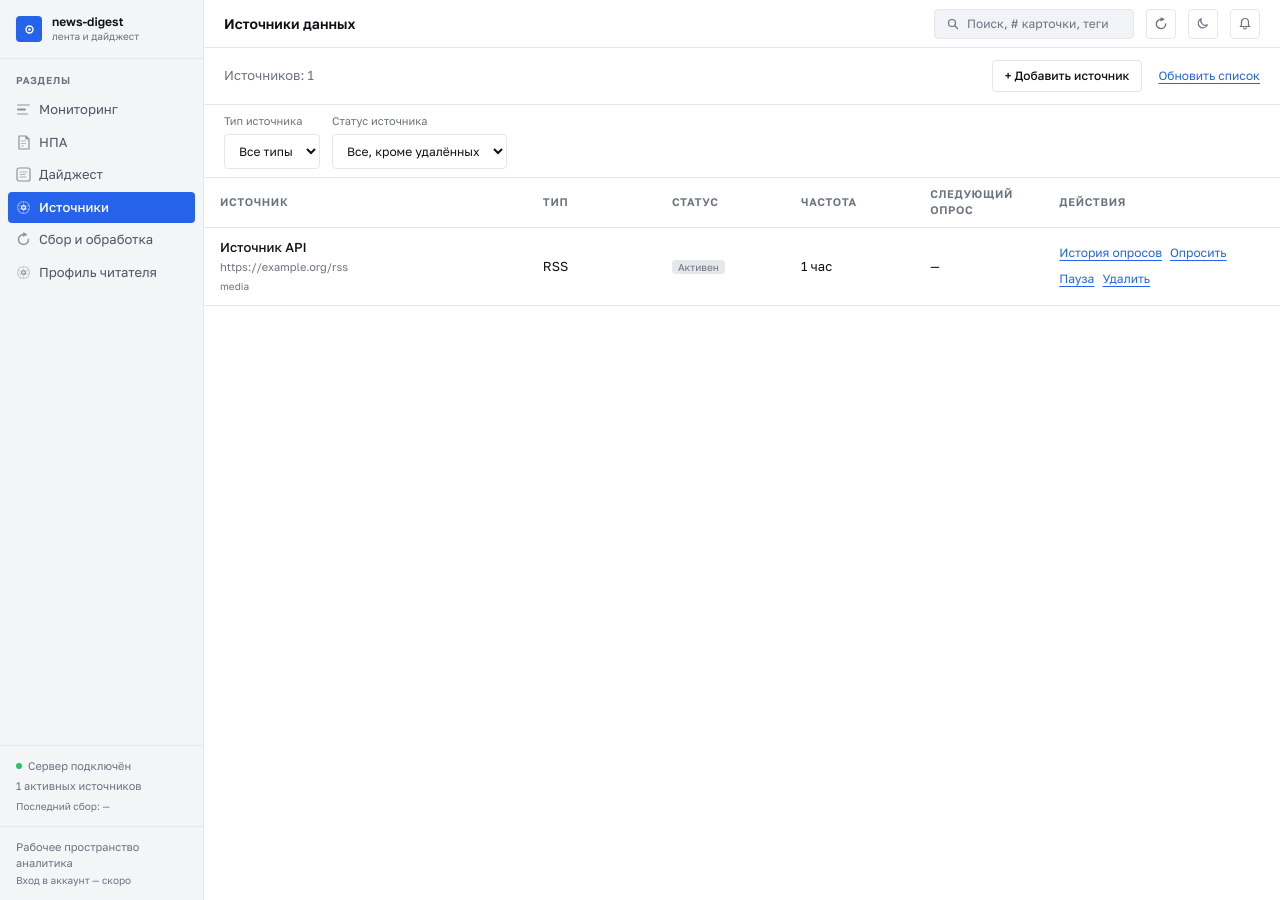
Scenario: source APIs › blocks creation when the probe reports an existing source
Click the button "+ Добавить источник".
click(1067, 76)  # box [992, 60, 1142, 92]
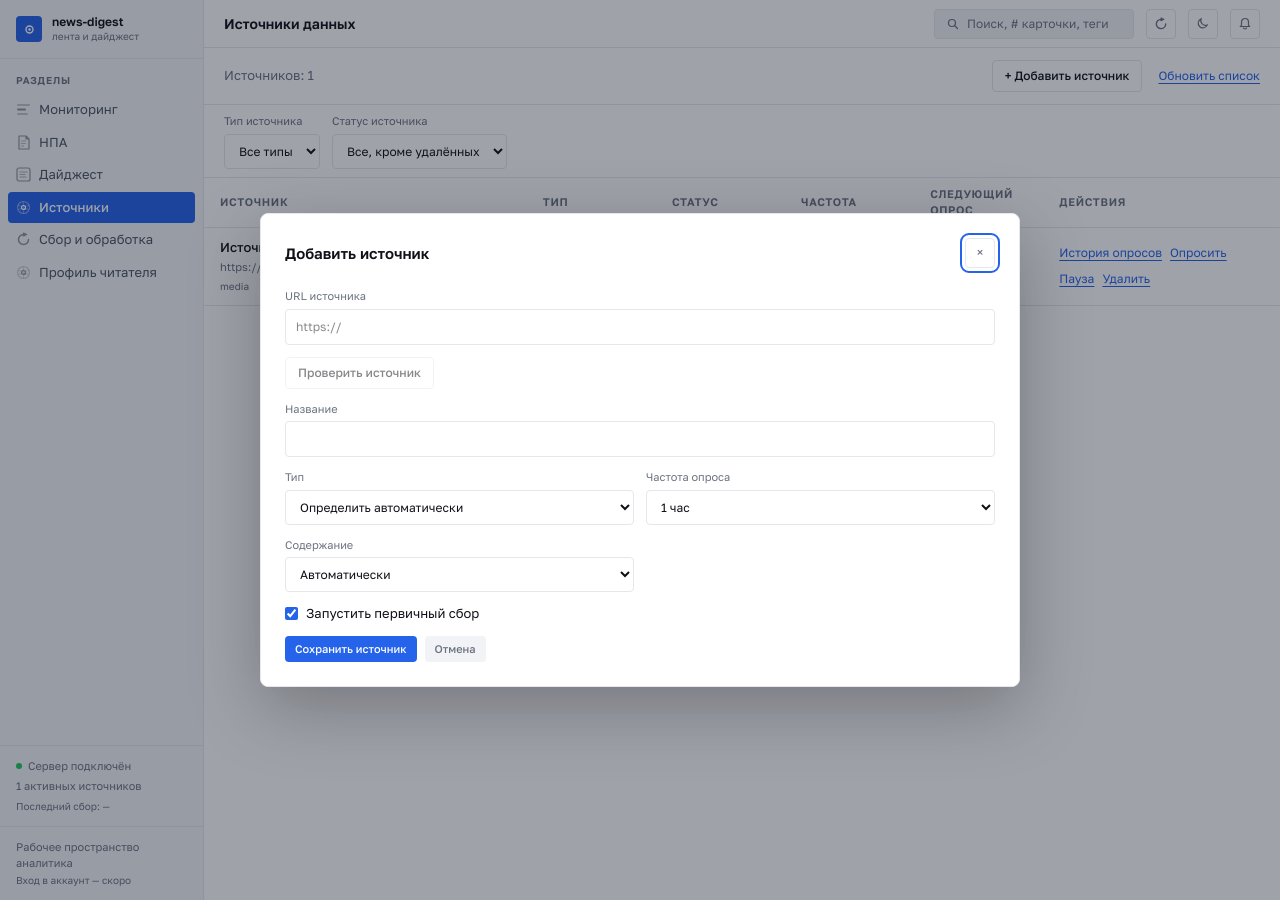
Type "https://example.org/rss" into the field labelled "URL источника".
click(640, 326); type("https://example.org/rss")  # box [285, 308, 995, 344]
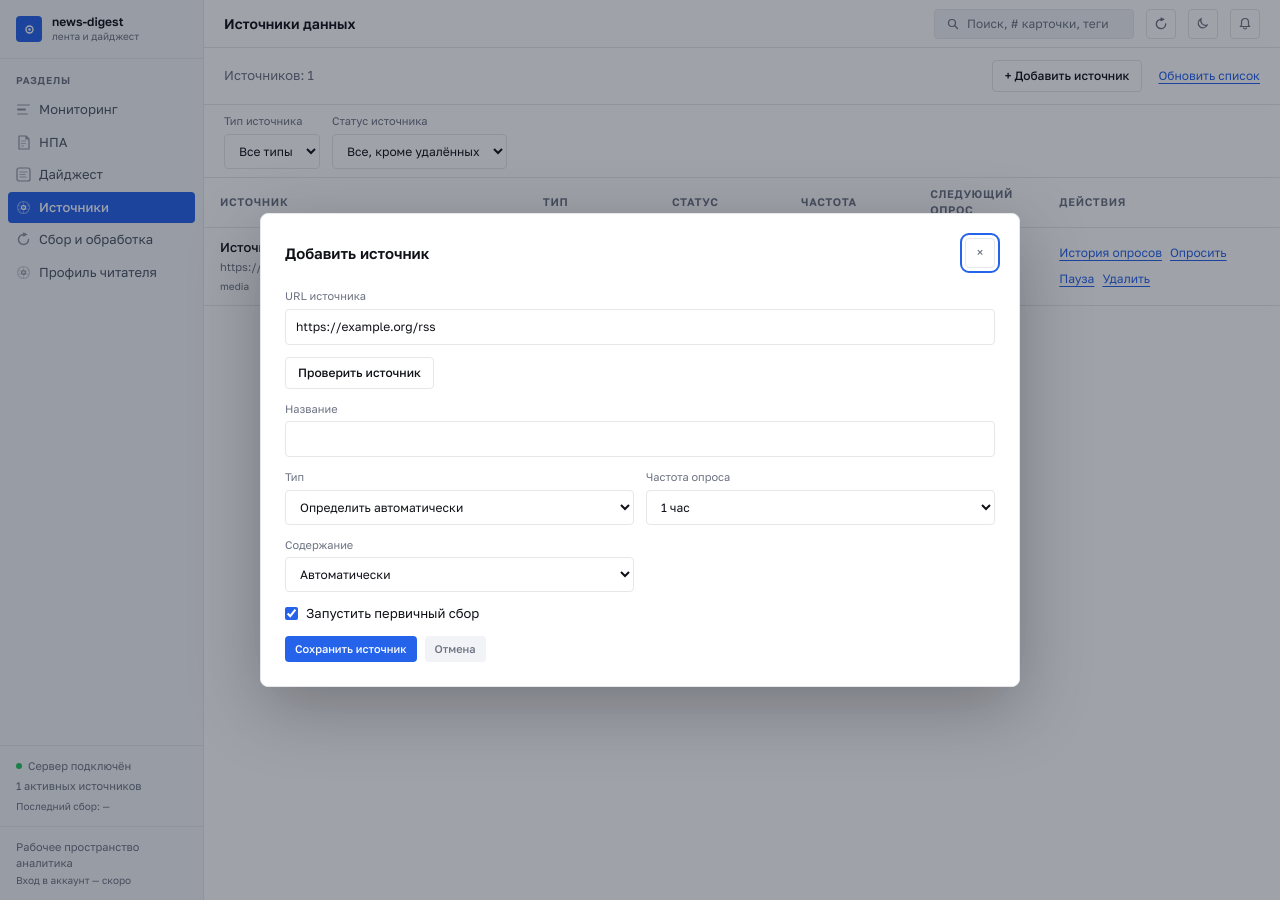
Click the button "Проверить источник".
click(360, 372)  # box [285, 356, 434, 388]
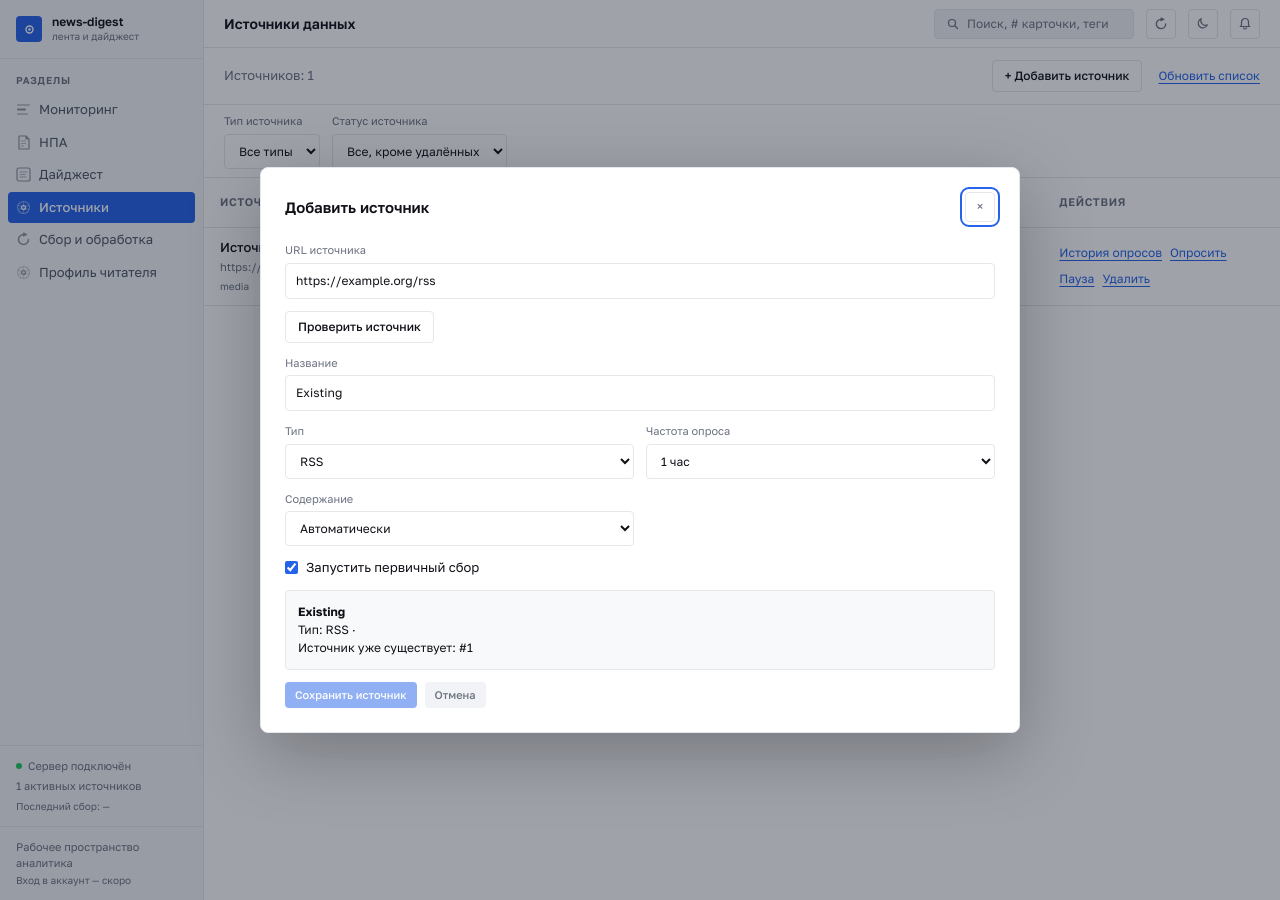
Check: the button "Сохранить источник" is disabled, box [285, 682, 416, 708]
